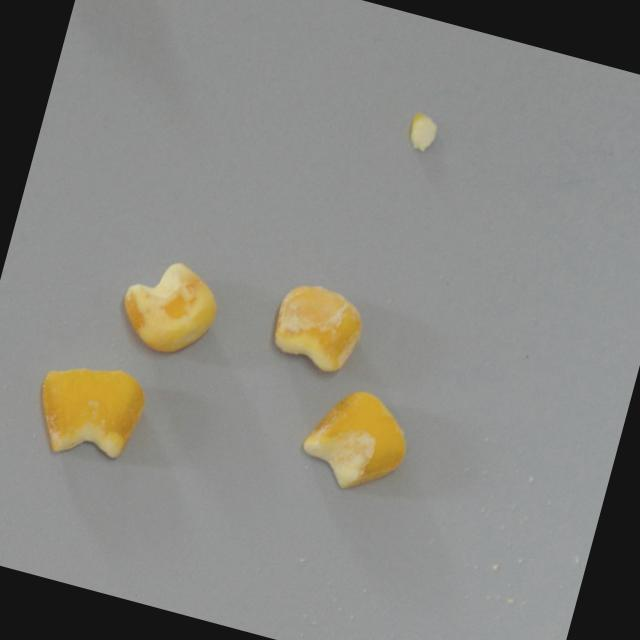pelicula: (290, 375, 421, 506), (24, 346, 156, 475), (109, 246, 229, 368), (260, 271, 373, 385)
